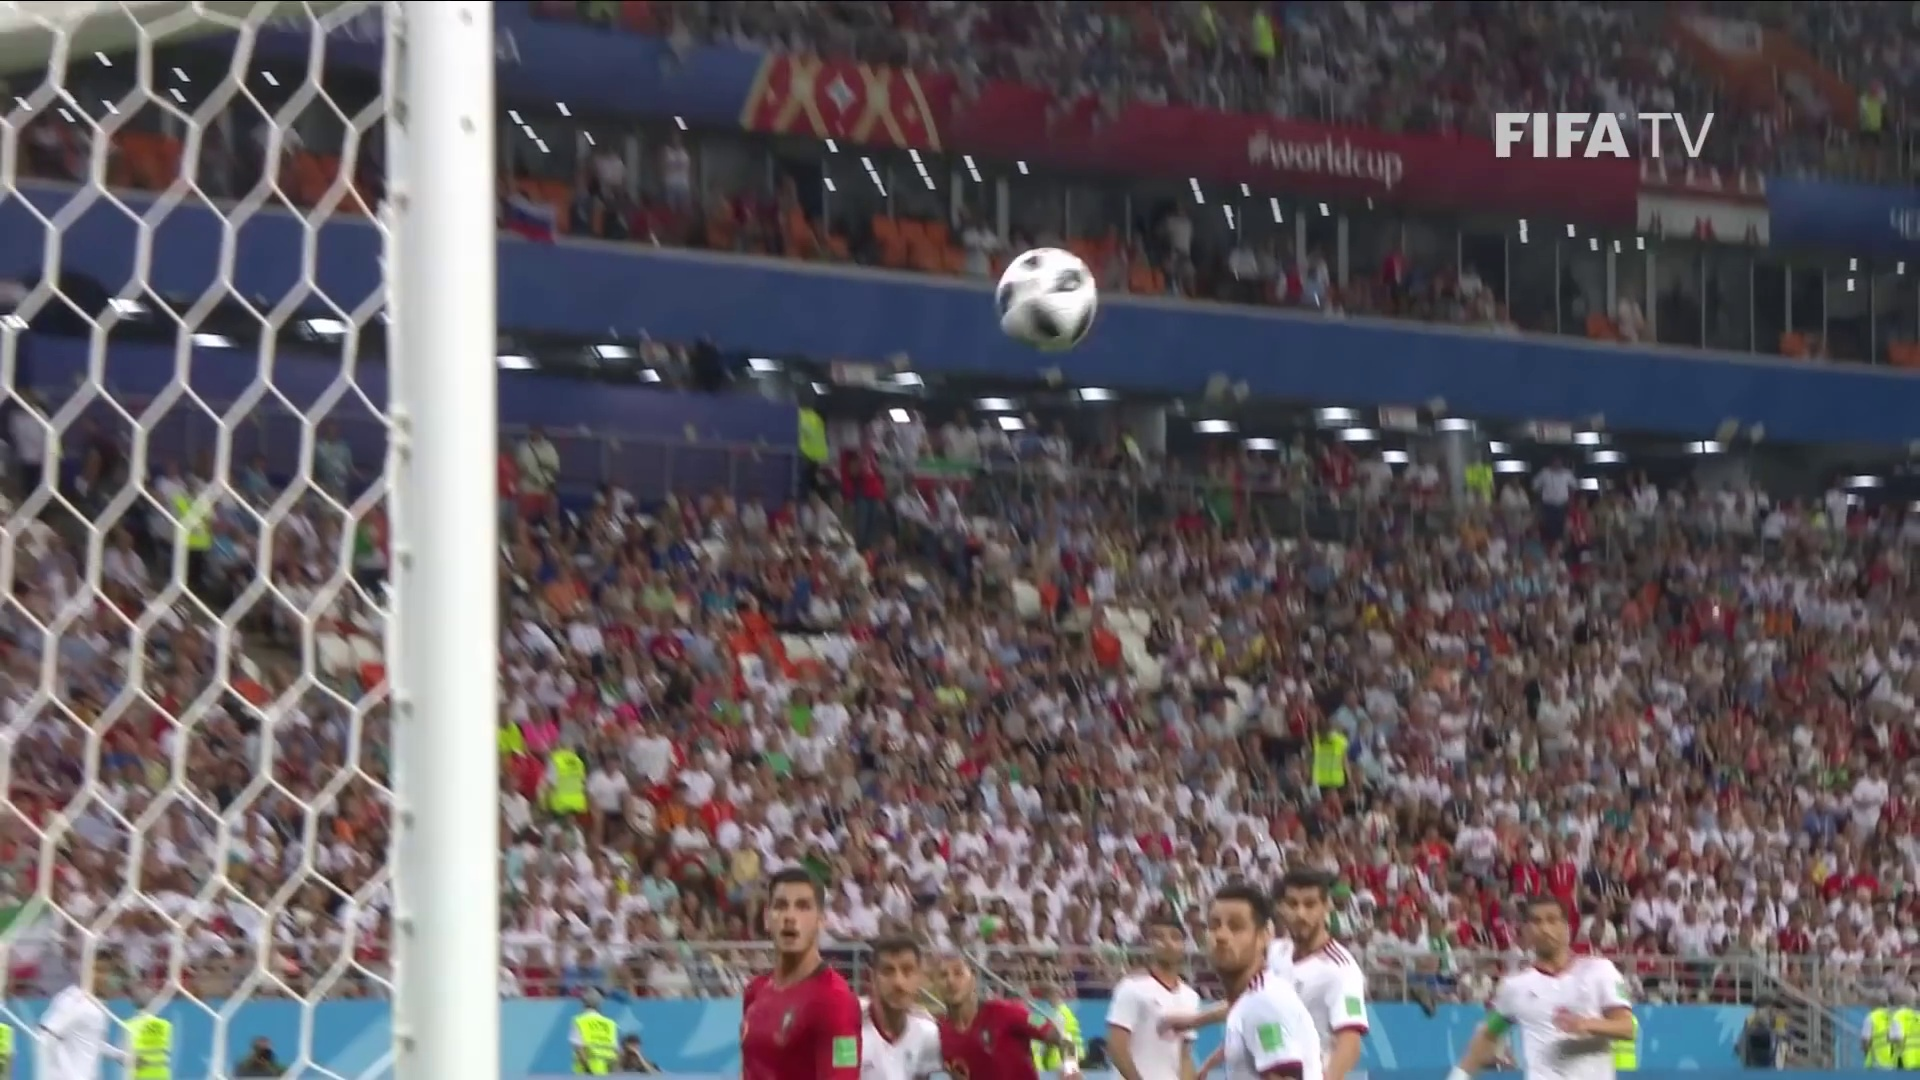ball: (995, 245, 1095, 345)
person: (1459, 910, 1628, 1080), (736, 869, 856, 1080), (1187, 892, 1317, 1080), (1252, 876, 1371, 1080), (926, 947, 1066, 1080), (1101, 916, 1203, 1078), (854, 941, 944, 1080)
